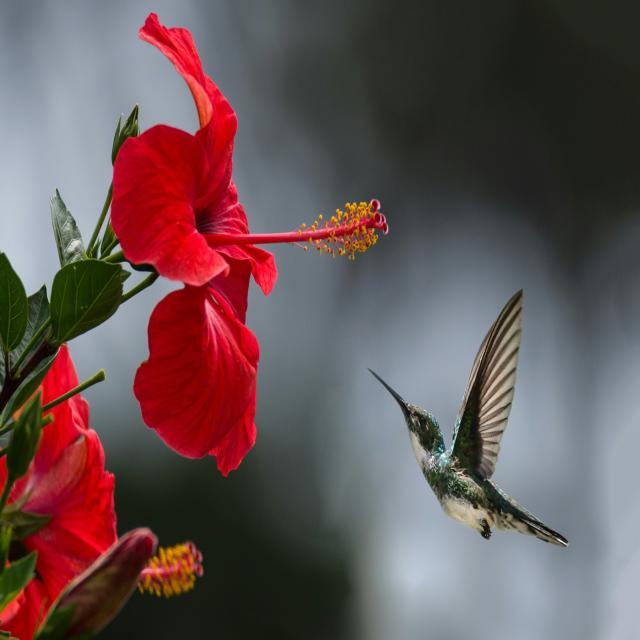Humming Bird: (370, 291, 565, 553)
